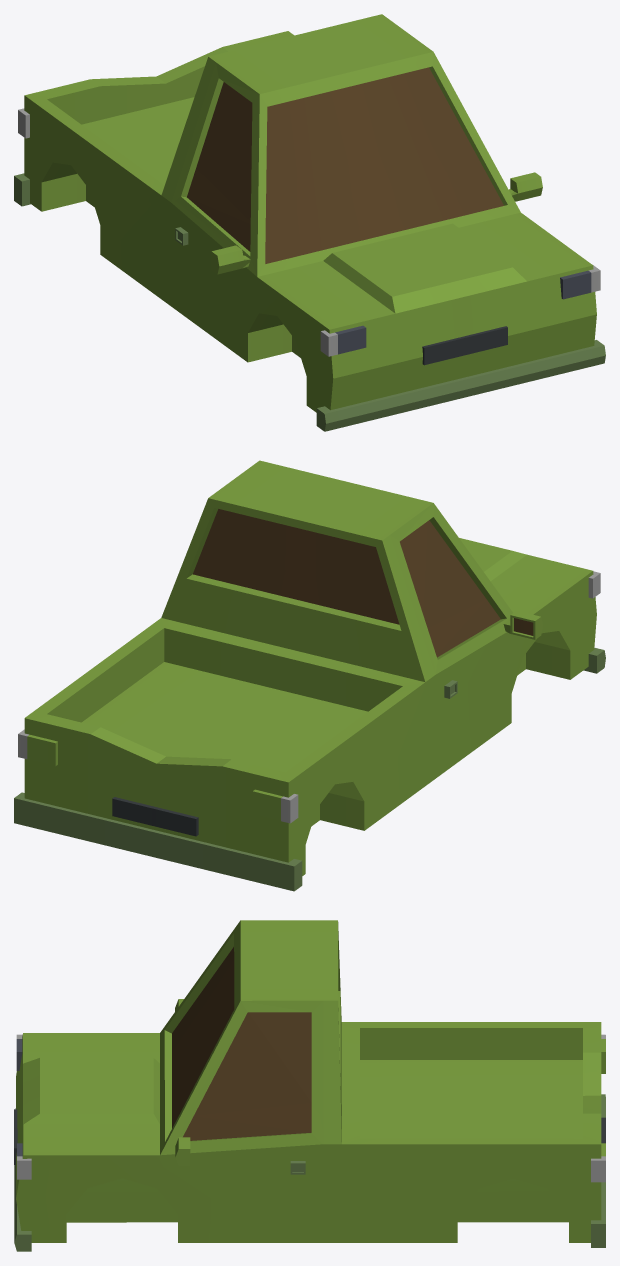
The model's file is Car_02.fbx.
3 views of the same model, one above another, from view 1: azimuth 30°, elevation 25°; view 2: azimuth 150°, elevation 25°; view 3: azimuth 270°, elevation 25° (orthographic). The views are drawn at different scales.
Parts seen in each view (by area): view 1: Car_02; view 2: Car_02; view 3: Car_02.
Part boxes in pixels (x1,y1,x2,y2): Car_02: [14, 14, 605, 431]; Car_02: [14, 460, 605, 891]; Car_02: [14, 920, 605, 1251].
Size of the model in its own units: 1.96 by 1.38 by 3.28.
